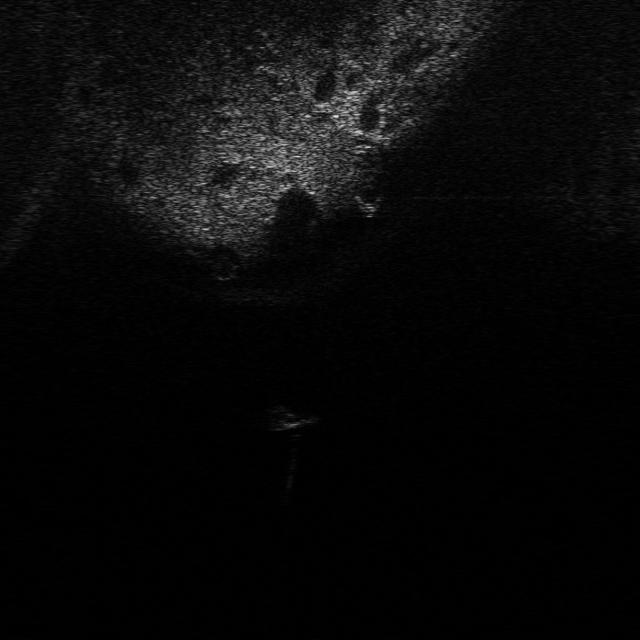ball: (352, 174, 388, 212)
cube: (264, 399, 324, 434)
